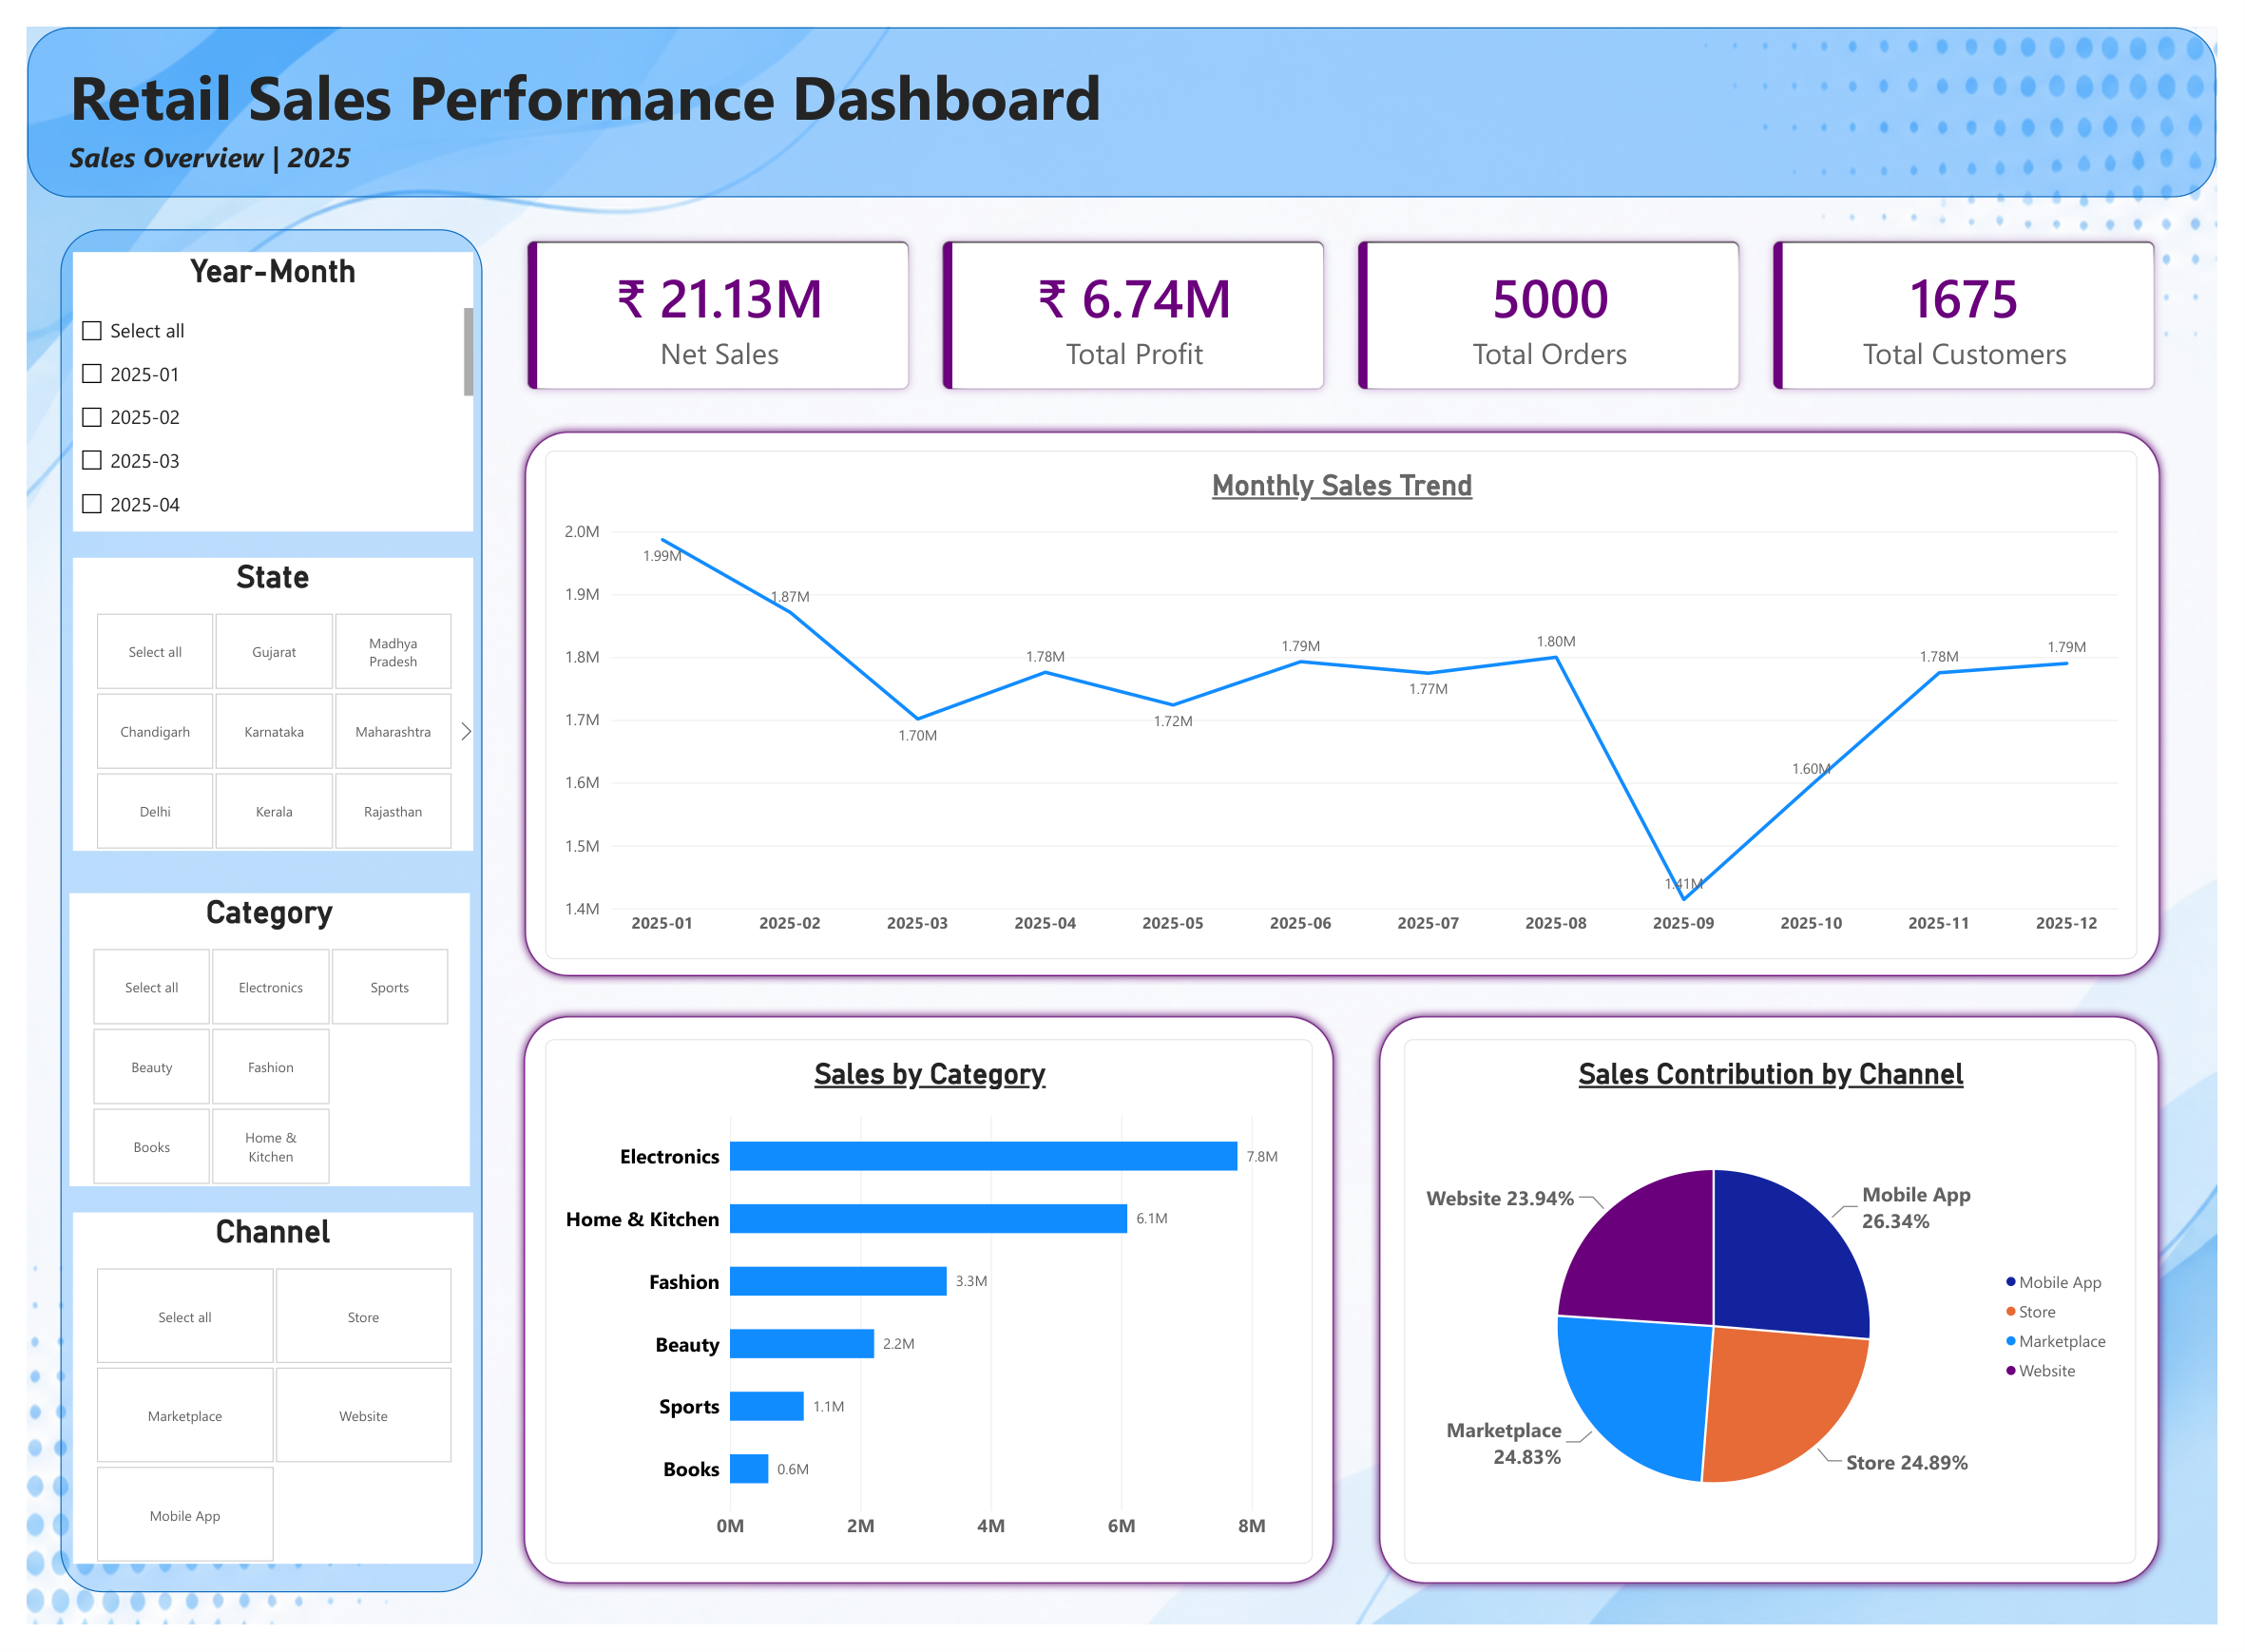

This screenshot's page, from the dashboard's own definition file:
{"tool":"powerbi","page":{"name":"Sales Overview","canvas":[1920,1400],"ordinal":0},"visuals":[{"type":"cardVisual","fields":{"Data":["retail_sales_cleaned.Net Sales","retail_sales_cleaned.Total Profit","retail_sales_cleaned.Total Orders","retail_sales_cleaned.Total Customers"]},"box":[428,176.9,1449.5,151.2],"z":0},{"type":"shape","box":[0,0,1919.2,149.5],"z":1000},{"type":"textbox","box":[37.1,22.8,958.7,94.2],"z":2000},{"type":"textbox","box":[37.1,97,921.6,51.4],"z":3000},{"type":"shape","box":[429.2,347.2,1449.1,491.9],"z":4000},{"type":"lineChart","title":"Monthly Sales Trend","fields":{"Category":["Date.Year-Month"],"Y":["retail_sales_cleaned.Net Sales"]},"box":[453.7,370.9,1396,446],"z":5000},{"type":"shape","box":[428,858.8,724.7,513.6],"z":6000},{"type":"shape","box":[1178.4,858.8,699.1,513.6],"z":7000},{"type":"clusteredBarChart","title":"Sales by Category","fields":{"Category":["retail_sales_cleaned.category"],"Y":["retail_sales_cleaned.Net Sales"]},"box":[453.7,887.4,673.4,459.4],"z":8000},{"type":"pieChart","title":"Sales Contribution by Channel","fields":{"Category":["retail_sales_cleaned.sales_channel"],"Y":["retail_sales_cleaned.Net Sales"]},"box":[1207,887.4,642,459.4],"z":9000},{"type":"shape","box":[28.5,176.9,370.9,1195.5],"z":10000},{"type":"slicer","title":"State","fields":{"Values":["retail_sales_cleaned.state"]},"box":[39.9,465.1,351,256.8],"z":11001},{"type":"slicer","title":"Category","fields":{"Values":["retail_sales_cleaned.category"]},"box":[37.1,759,351,256.8],"z":11002},{"type":"slicer","title":"Channel","fields":{"Values":["retail_sales_cleaned.sales_channel"]},"box":[39.9,1038.6,351,308.2],"z":11003},{"type":"slicer","title":"Year-Month","fields":{"Values":["Date.Year-Month"]},"box":[39.9,196.9,351,245.4],"z":11005}]}

Visuals, with their boxes in screenshot pixels (x1, y1, x2, y2), scaled from the page's 1920x1400 canvas onto the 2245x1652 screenshot:
cardVisual - retail_sales_cleaned.Net Sales x retail_sales_cleaned.Total Profit: 501:209:2196:387
shape: 0:0:2244:177
textbox: 44:27:1164:138
textbox: 44:114:1121:175
shape: 502:410:2197:990
"Monthly Sales Trend" lineChart: 530:437:2163:964
shape: 501:1013:1348:1620
shape: 1378:1013:2196:1620
"Sales by Category" clusteredBarChart: 530:1047:1318:1589
"Sales Contribution by Channel" pieChart: 1411:1047:2162:1589
shape: 33:209:467:1620
"State" slicer: 47:548:457:852
"Category" slicer: 44:895:453:1199
"Channel" slicer: 47:1225:457:1589
"Year-Month" slicer: 47:232:457:522
